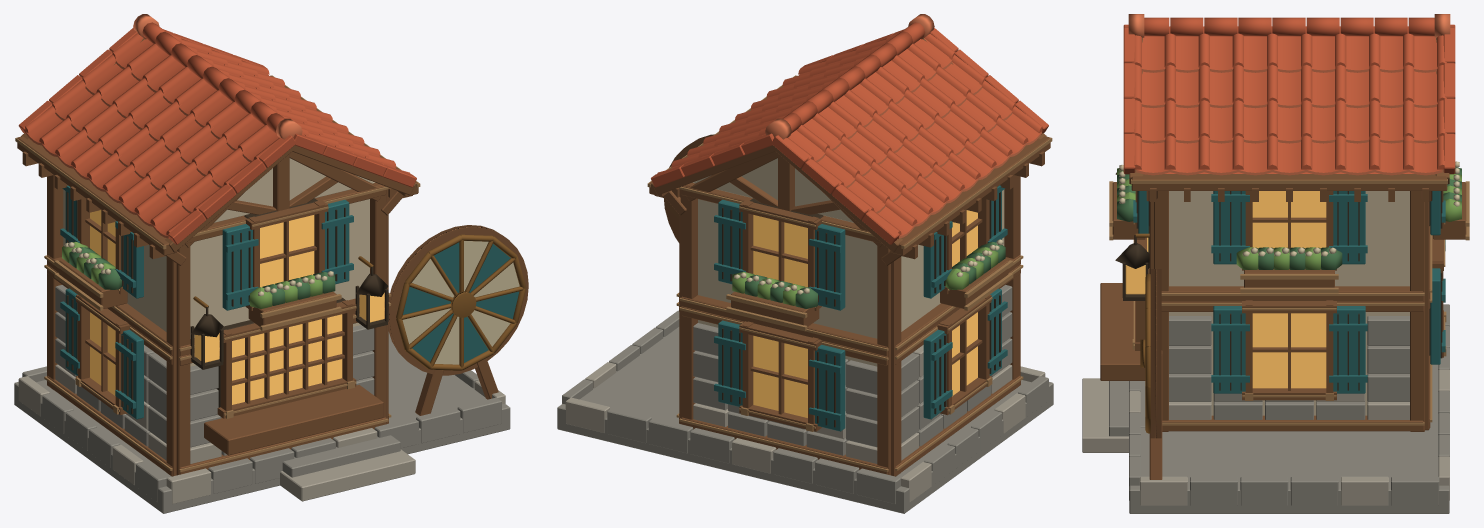
The picture shows the model from 3 angles, left to right: view 1: azimuth 30°, elevation 25°; view 2: azimuth 150°, elevation 25°; view 3: azimuth 270°, elevation 25°; orthographic projection. The views are drawn at different scales.
Visible parts, largest first — view 1: alpine_chance_wheel_geometry, alpine_chance_wheel_geometry ceramic, alpine_wheel_geometry; view 2: alpine_chance_wheel_geometry, alpine_chance_wheel_geometry ceramic, alpine_wheel_geometry; view 3: alpine_chance_wheel_geometry, alpine_chance_wheel_geometry ceramic, alpine_wheel_geometry.
Boxes of the visible parts, x1=… form: alpine_chance_wheel_geometry: x1=14, y1=38, x2=510, y2=513; alpine_chance_wheel_geometry ceramic: x1=18, y1=14, x2=416, y2=244; alpine_wheel_geometry: x1=388, y1=225, x2=528, y2=375; alpine_chance_wheel_geometry: x1=557, y1=38, x2=1053, y2=513; alpine_chance_wheel_geometry ceramic: x1=651, y1=14, x2=1048, y2=244; alpine_wheel_geometry: x1=664, y1=134, x2=714, y2=242; alpine_chance_wheel_geometry: x1=1082, y1=37, x2=1469, y2=513; alpine_chance_wheel_geometry ceramic: x1=1123, y1=14, x2=1455, y2=175; alpine_wheel_geometry: x1=1140, y1=269, x2=1161, y2=438.
Bounding box in the file's own units: 1.04 × 0.9233 × 0.8421.
